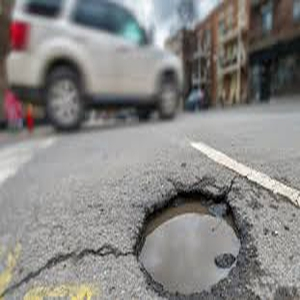pothole: (137, 183, 250, 300)
